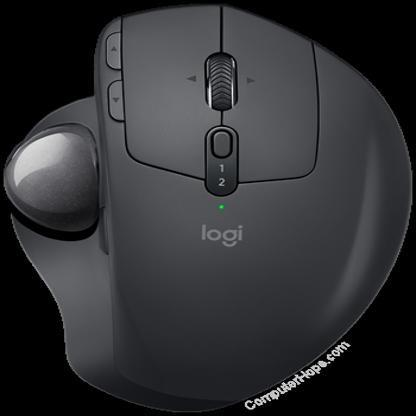not trash: (4, 5, 414, 406)
